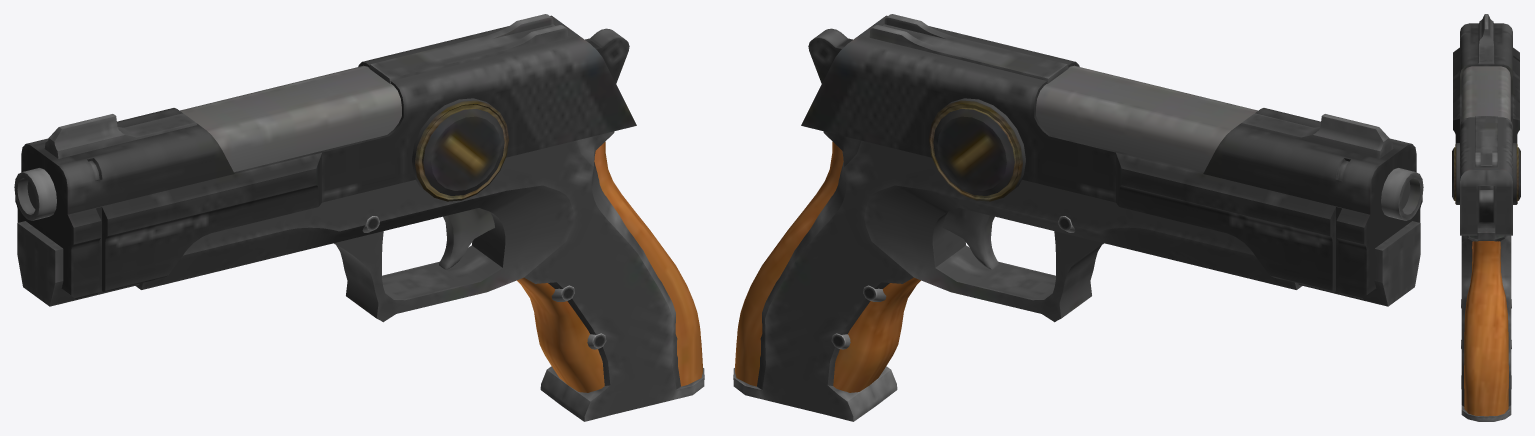
The model's file is Pistol.glb.
3 views of the same model, side by side, from view 1: azimuth 30°, elevation 25°; view 2: azimuth 150°, elevation 25°; view 3: azimuth 270°, elevation 25° (orthographic). The views are drawn at different scales.
Parts seen in each view (by area): view 1: Gun_Pistol; view 2: Gun_Pistol; view 3: Gun_Pistol.
Boxes of the visible parts, x1,y1,x2,y2 form: Gun_Pistol: [14, 14, 704, 421]; Gun_Pistol: [733, 14, 1423, 421]; Gun_Pistol: [1452, 14, 1520, 421].
Bounding box in the file's own units: 0.4425 × 0.2523 × 0.0685.
Materials: 1 (1 with a texture image).
